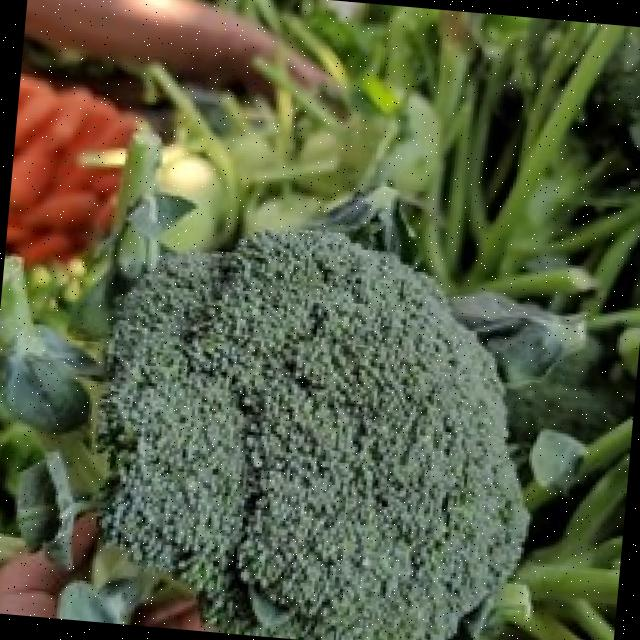Broccoli: (100, 232, 527, 640)
